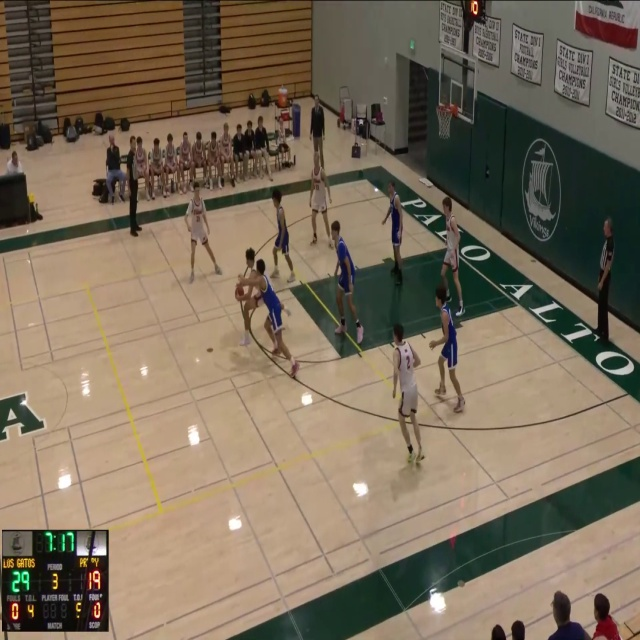Basketball: (278, 87, 288, 108), (235, 283, 245, 298), (277, 95, 287, 108)
